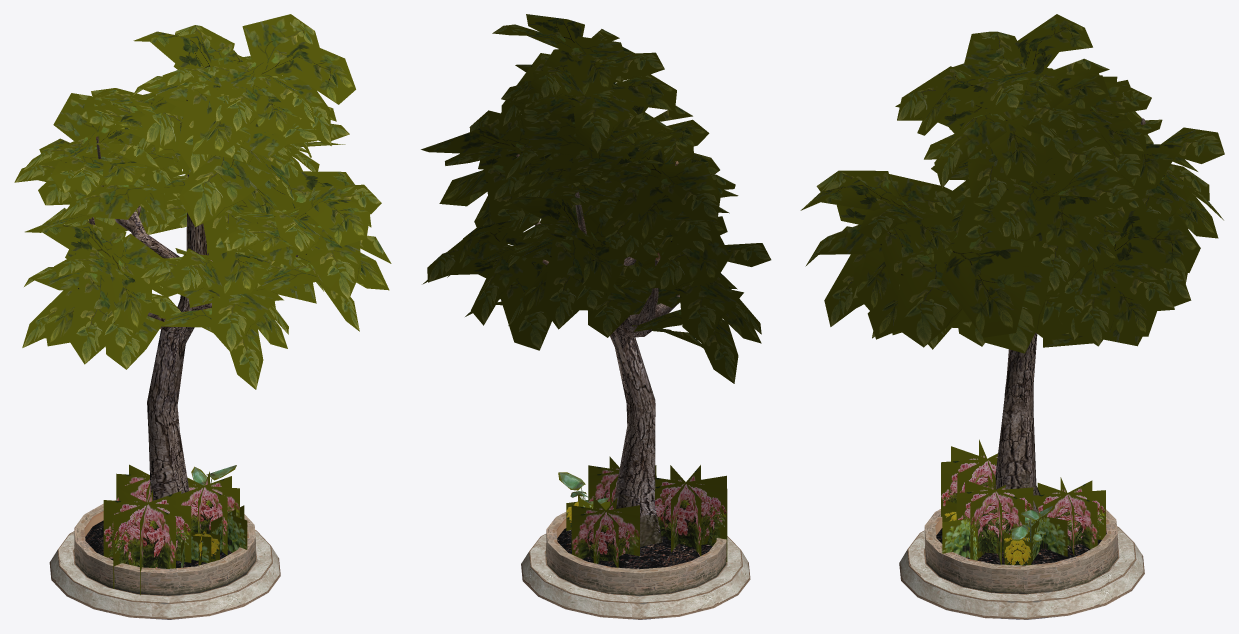
The model's file is tree_1.fbx.
3 views of the same model, side by side, from view 1: azimuth 30°, elevation 25°; view 2: azimuth 150°, elevation 25°; view 3: azimuth 270°, elevation 25° (orthographic). The views are drawn at different scales.
Parts seen in each view (by area): view 1: Prop_Bush_018; view 2: Prop_Bush_018; view 3: Prop_Bush_018.
Part boxes in pixels (x1,y1,x2,y2): Prop_Bush_018: (14, 14, 391, 619); Prop_Bush_018: (421, 14, 771, 619); Prop_Bush_018: (800, 14, 1224, 619).
Size of the model in its own units: 561 by 867 by 602.
